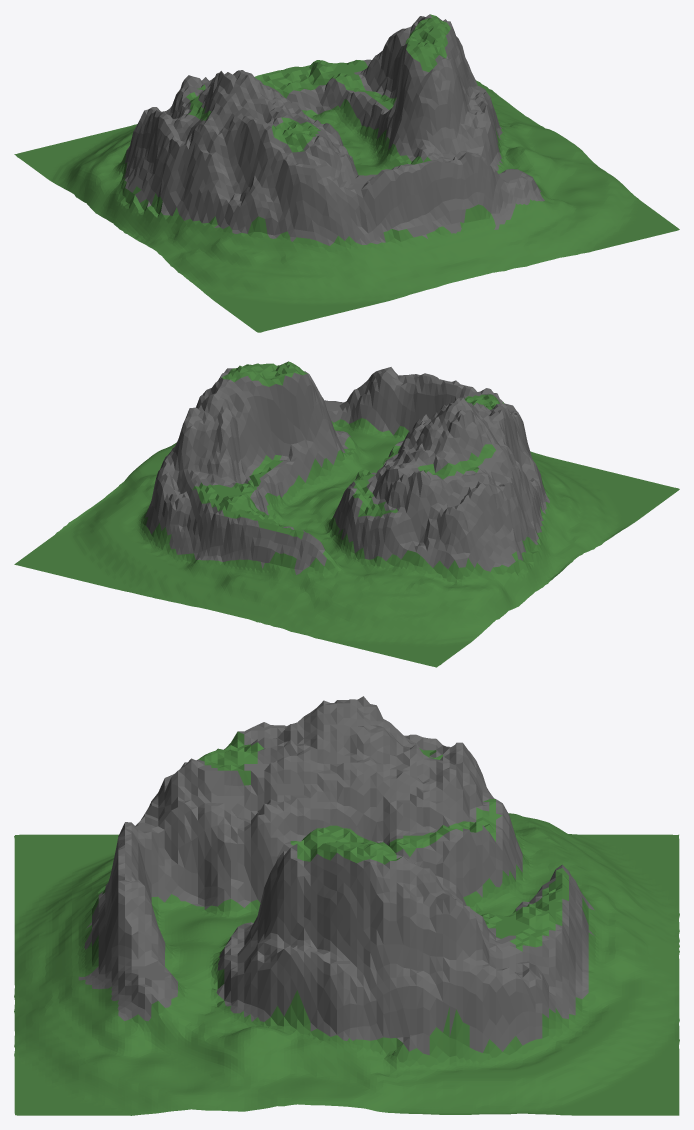
File: mountain2.fbx
3 renders of one model, top to bottom at view 1: azimuth 30°, elevation 25°; view 2: azimuth 150°, elevation 25°; view 3: azimuth 270°, elevation 25°, orthographic. The views are drawn at different scales.
Parts seen in each view (by area): view 1: Cube; view 2: Cube; view 3: Cube.
Boxes of the visible parts, x1=… form: Cube: x1=14, y1=14, x2=679, y2=332; Cube: x1=14, y1=361, x2=679, y2=667; Cube: x1=14, y1=696, x2=679, y2=1115.
Bounding box in the file's own units: 1287 × 434 × 1287.
